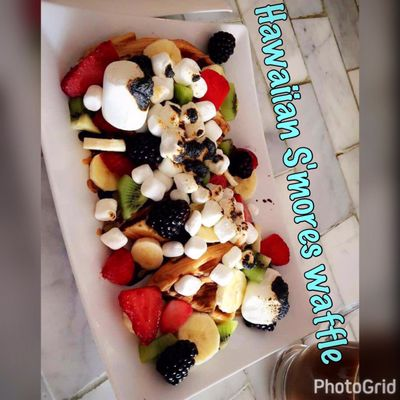sushi: (39, 10, 400, 397)
